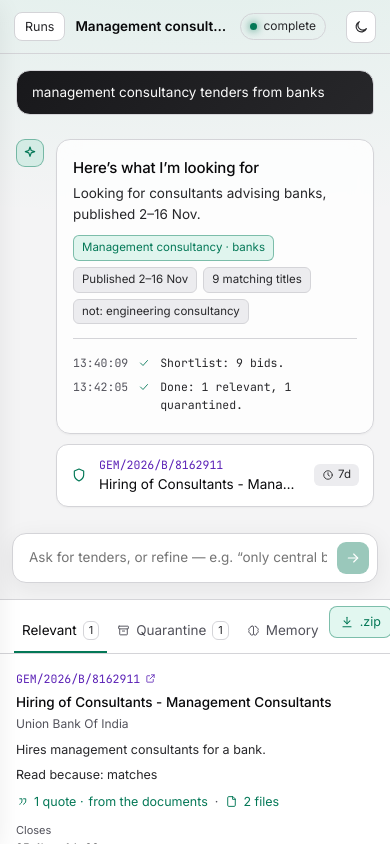
Test: phone drawer dismissal › the drawer closes from the Runs button or a tap on the backdrop
What coordinates should you click on to do the following:
click the button "Runs"
I would click on:
 (40, 26)
Its box is x1=14 y1=12 x2=65 y2=41.
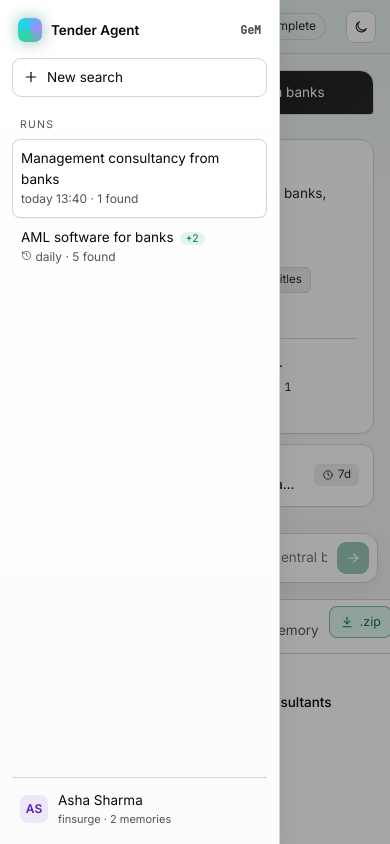
expect the button "Runs" is expanded: met, box x1=14 y1=12 x2=65 y2=41
What coordinates should you click on to do the following:
click the button named "Close runs"
I would click on:
 (367, 422)
Its box is x1=0 y1=0 x2=389 y2=843.
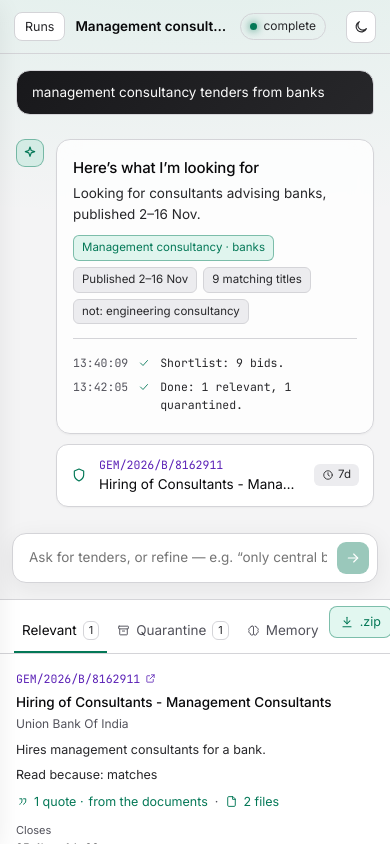
expect the button "Runs" is collapsed: met, box x1=14 y1=12 x2=65 y2=41
